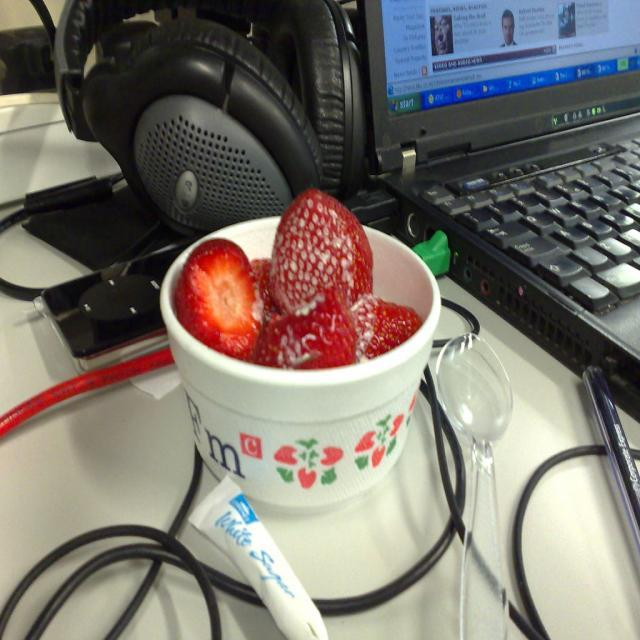Strawberry: (267, 190, 372, 315), (171, 223, 269, 345), (256, 290, 356, 374), (351, 296, 419, 366)
